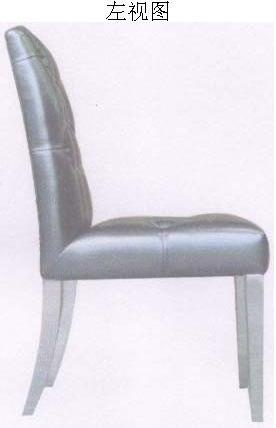obstacle: (5, 26, 268, 421)
